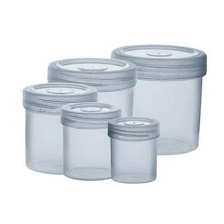plastic_box: (106, 39, 213, 160), (18, 78, 101, 178), (41, 52, 142, 122), (56, 98, 125, 183), (103, 113, 164, 185)
